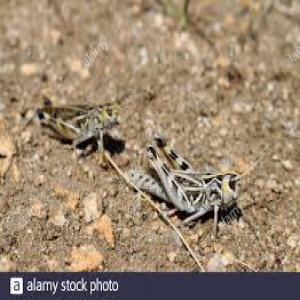locust: (141, 115, 266, 234), (32, 76, 129, 162)
